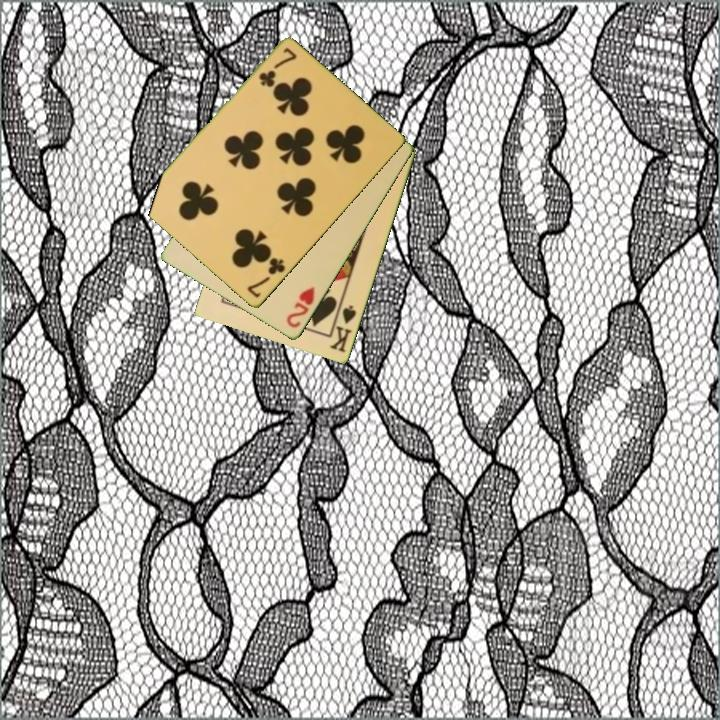2h: (283, 283, 318, 331)
7c: (243, 254, 288, 301), (255, 44, 299, 90)
Ks: (326, 302, 359, 356)
